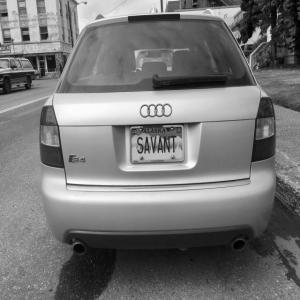Plate: (130, 125, 184, 163)
